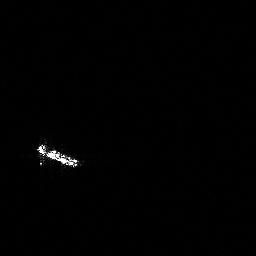ship: (34, 140, 84, 170)
